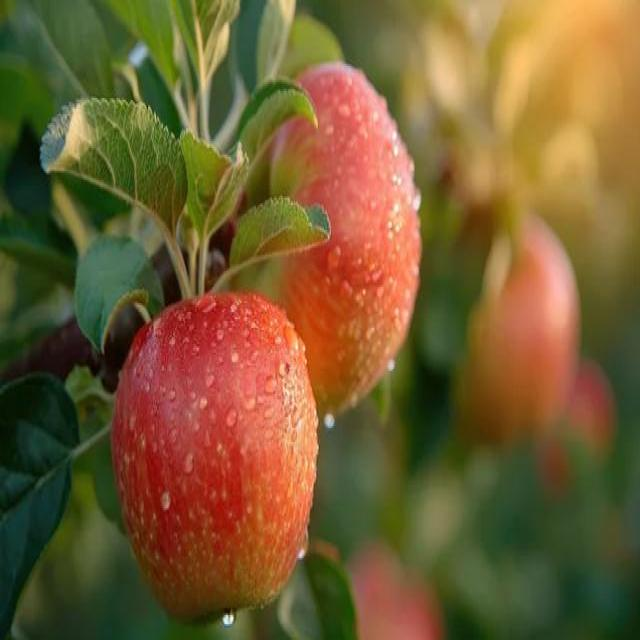fruit: (109, 286, 323, 636), (231, 54, 417, 429), (449, 190, 583, 467), (328, 535, 457, 640), (544, 343, 615, 512)
